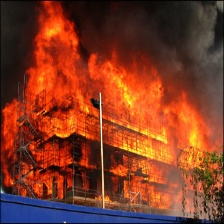fire: (3, 2, 201, 209)
smoke: (86, 1, 223, 72)
